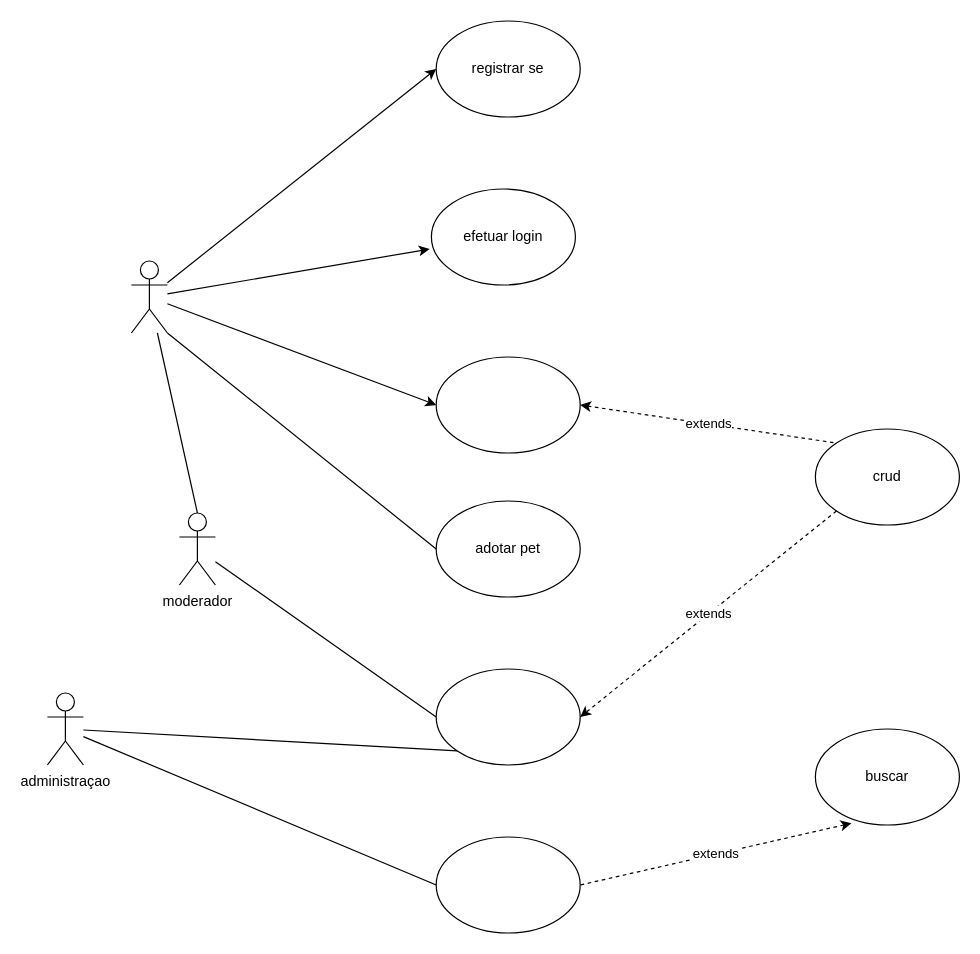
Image size: 980x954. Some labels were removed from this diagram. Each missing label, with the centre of its shape:
gerenciar usuarios: the point at 507,884
manter localidades: the point at 507,716
manter pet: the point at 507,404
usuario: the point at 148,296
